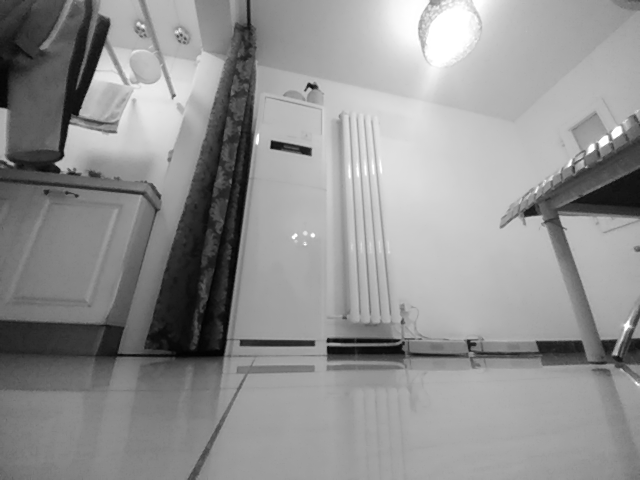curtain: (143, 24, 258, 362)
